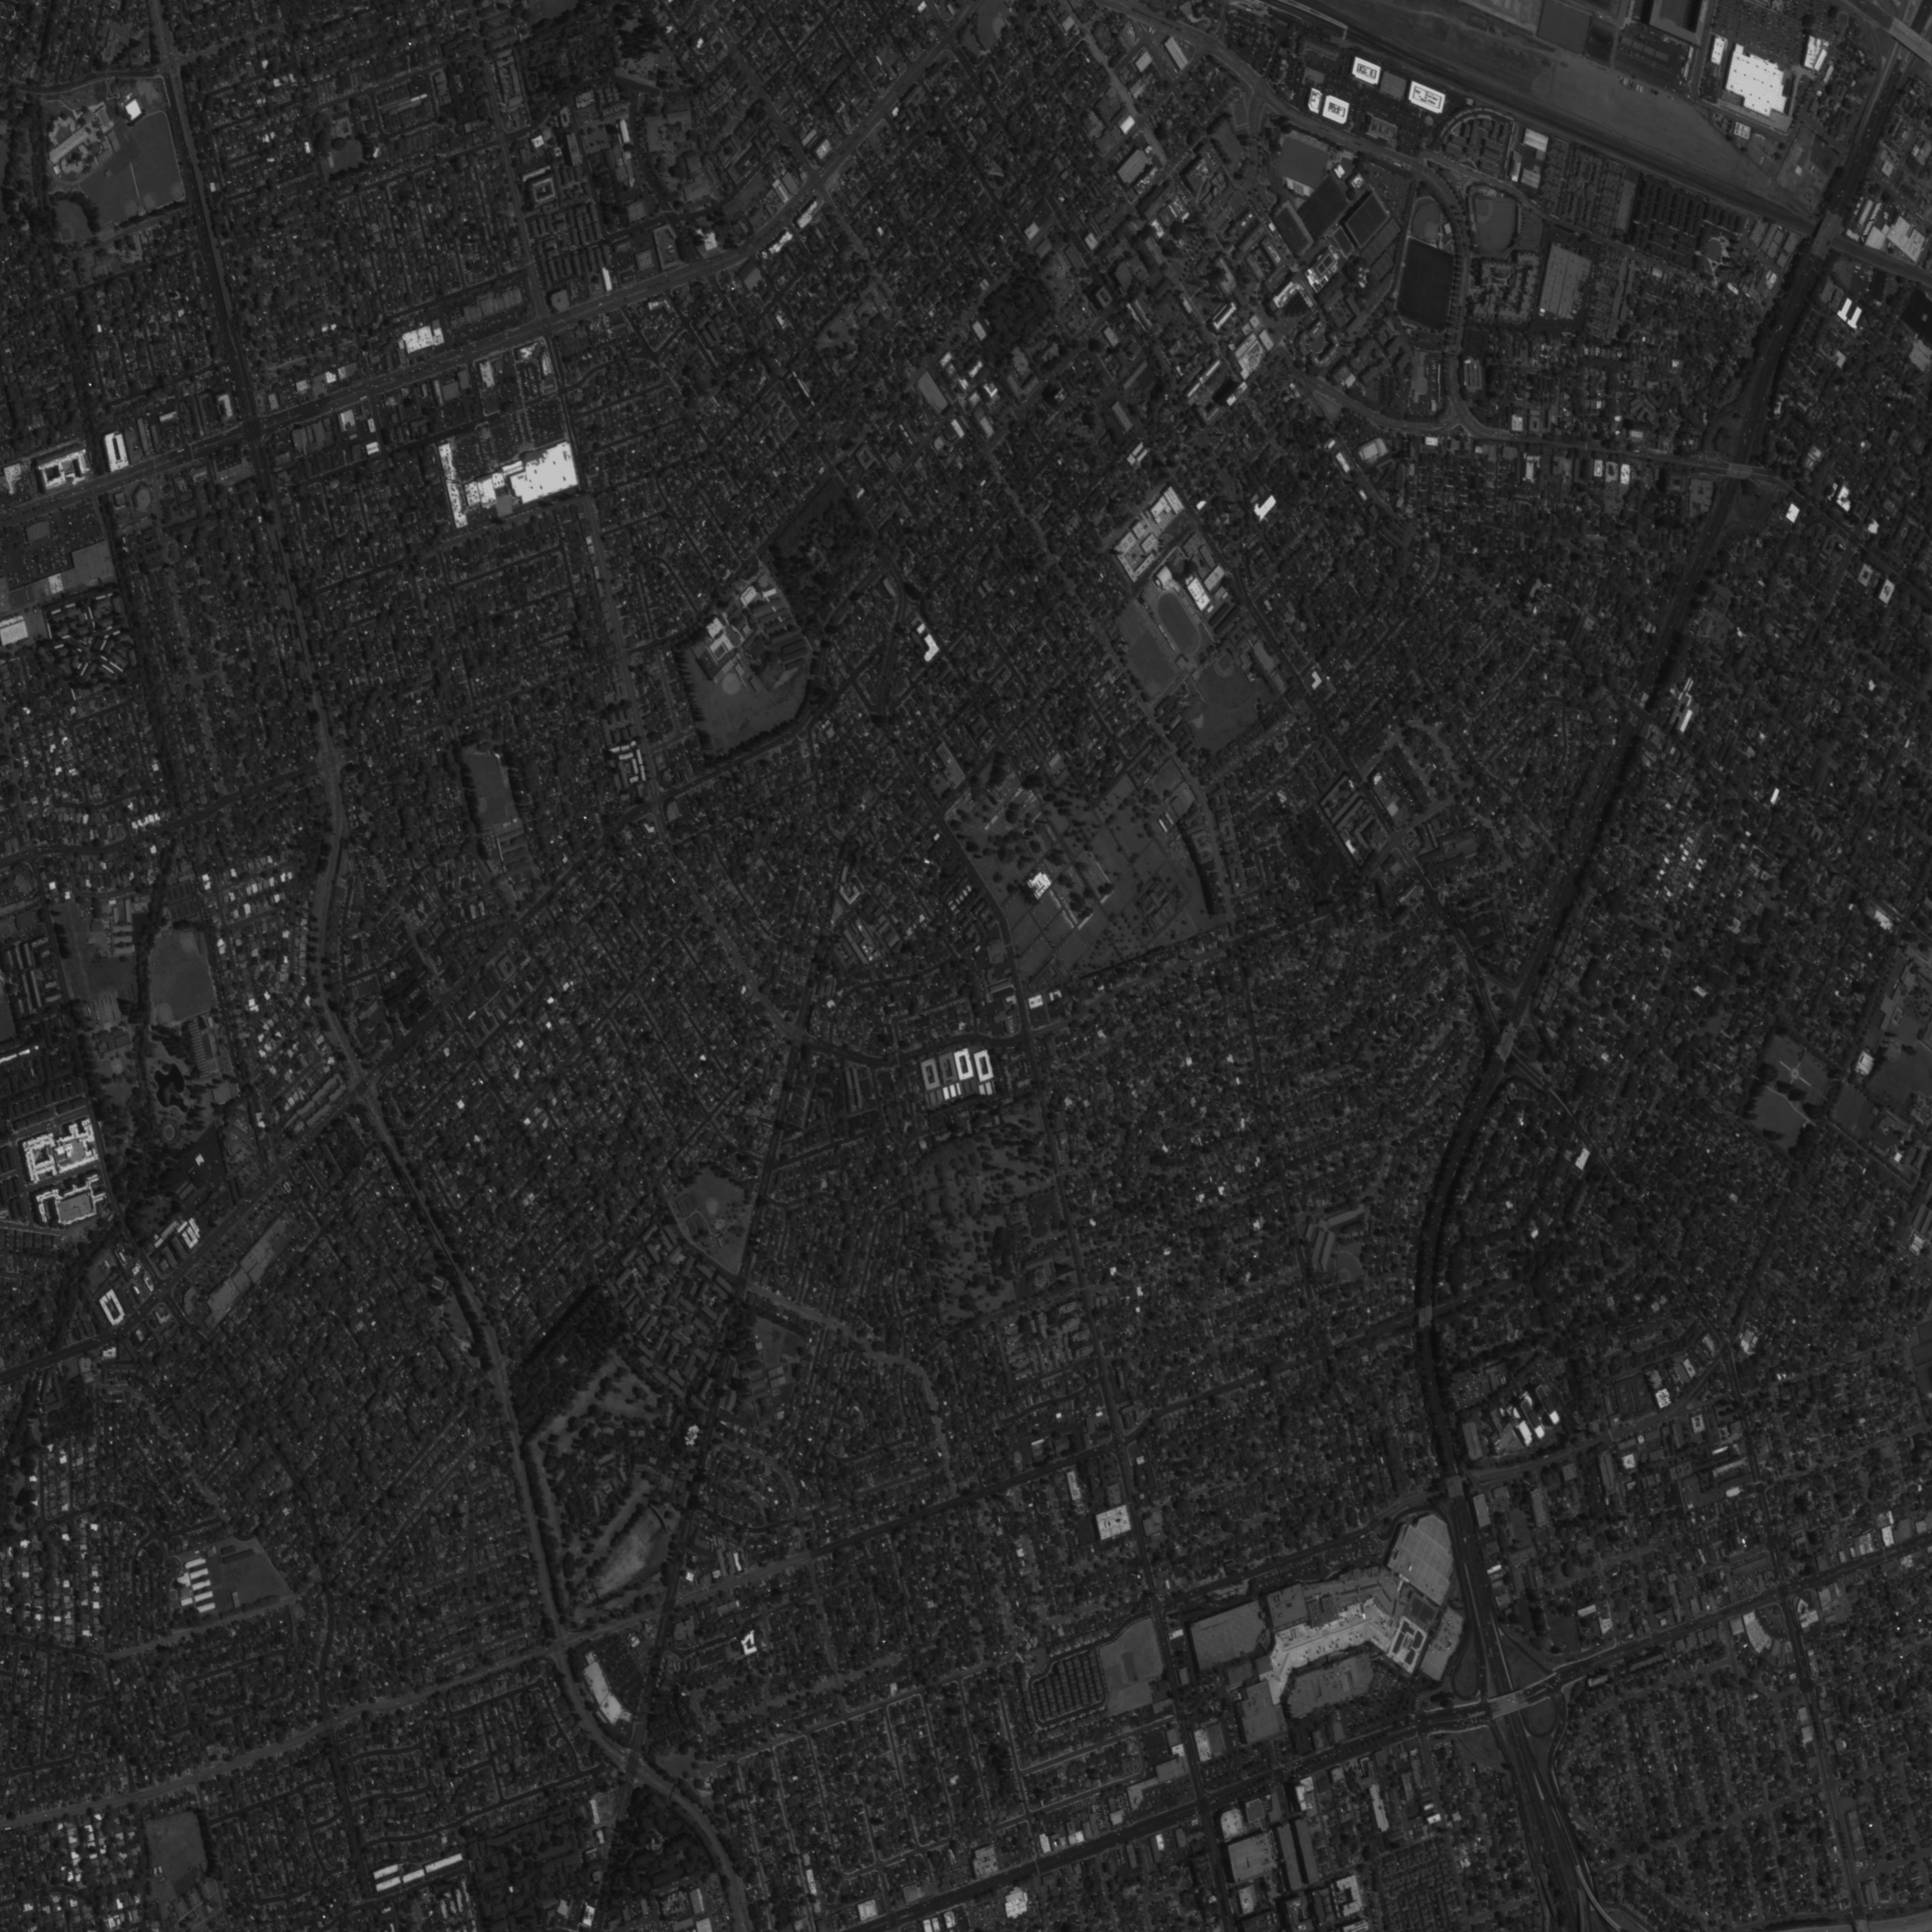baseball diamond: (177, 931, 202, 957), (1214, 653, 1238, 679), (154, 1001, 177, 1026), (140, 188, 159, 212), (120, 196, 140, 219), (166, 180, 186, 203), (1422, 218, 1440, 242), (1477, 198, 1493, 221), (57, 223, 74, 242)
ground track field: (1150, 586, 1207, 660)
soccer ball field: (1396, 239, 1456, 331), (1295, 175, 1350, 239)
